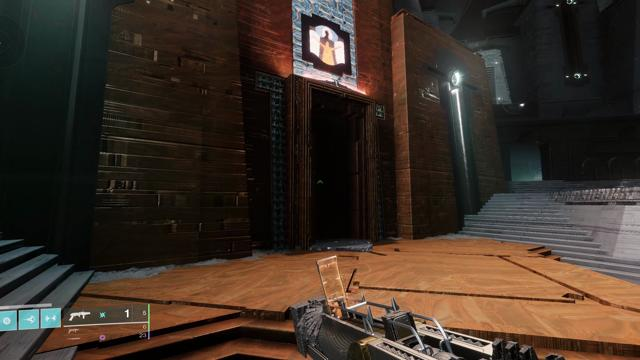worship: (309, 25, 345, 66)
